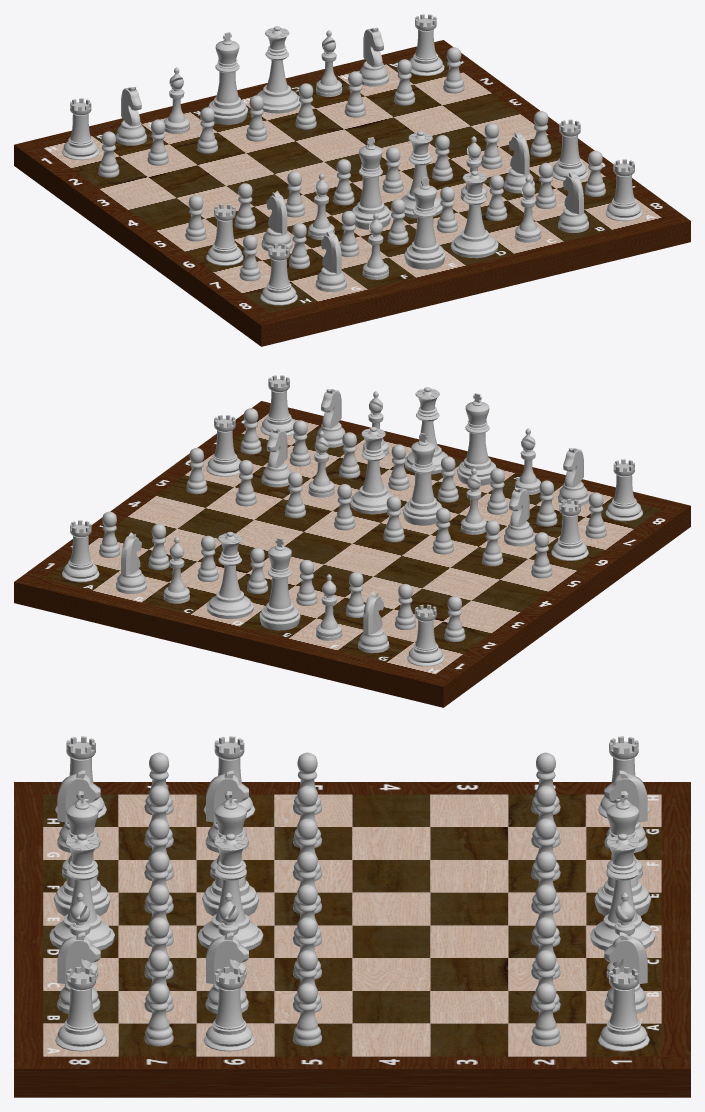
The model's file is ChessSet.fbx.
3 renders of one model, top to bottom at view 1: azimuth 30°, elevation 25°; view 2: azimuth 150°, elevation 25°; view 3: azimuth 270°, elevation 25°, orthographic. The views are drawn at different scales.
Visible parts, largest first — view 1: Cube.002, Cube.001, Cube.012; view 2: Cube.002, Cube.001, Cube.012; view 3: Cube.002, Cube.001, Cube.012.
Boxes of the visible parts, bbox=[...] form: Cube.002: bbox=[14, 40, 690, 346]; Cube.001: bbox=[185, 111, 642, 305]; Cube.012: bbox=[62, 14, 464, 177]; Cube.002: bbox=[14, 401, 690, 707]; Cube.001: bbox=[186, 375, 642, 578]; Cube.012: bbox=[62, 511, 465, 666]; Cube.002: bbox=[14, 782, 690, 1097]; Cube.001: bbox=[49, 736, 322, 1051]; Cube.012: bbox=[531, 736, 655, 1051].
Bounding box in the file's own units: 1060 × 247 × 1057.
